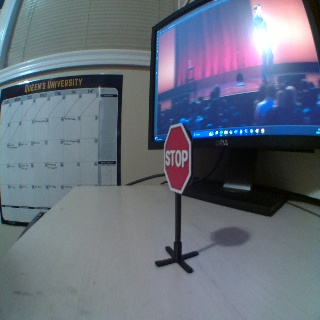sign_stop: (164, 123, 191, 192)
